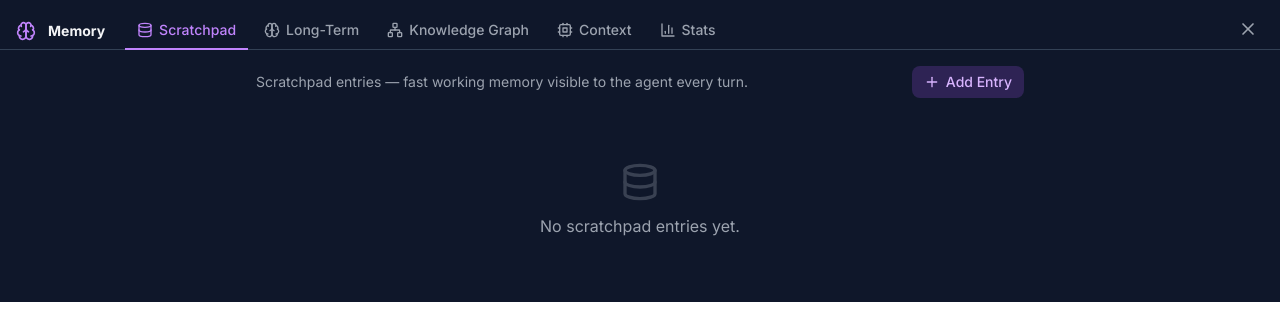
it: MemoryPanel › shows search input on the Long-Term tab
// Click the Long-Term tab
Step 1. Click the button "Long-Term" → (312, 31), box [252,12,371,50]
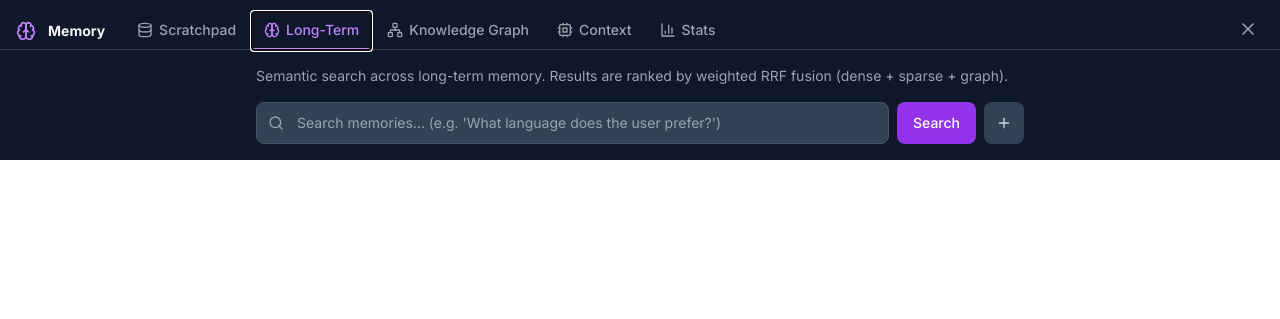
Result: the field with placeholder "Search memories" is shown at [256,102,889,144]
